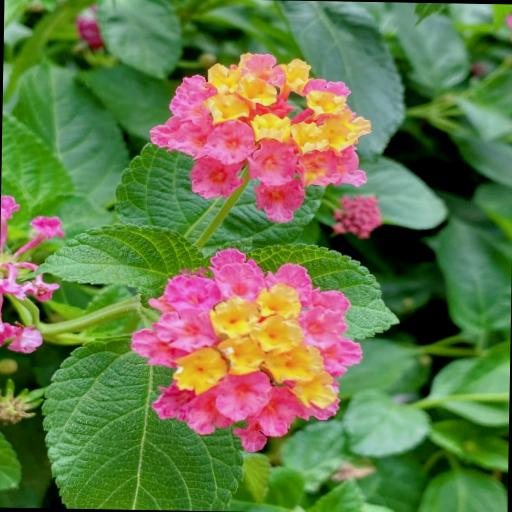Lantana: (125, 246, 372, 456), (142, 47, 389, 228)
